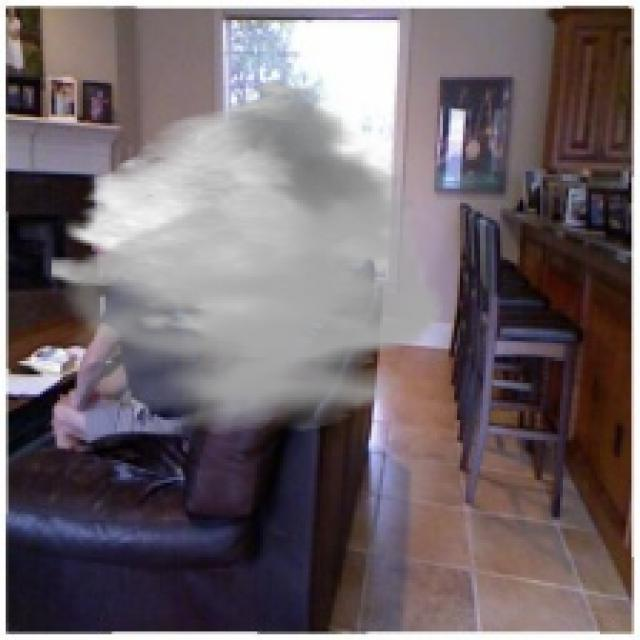Smoke: (51, 77, 448, 434)
